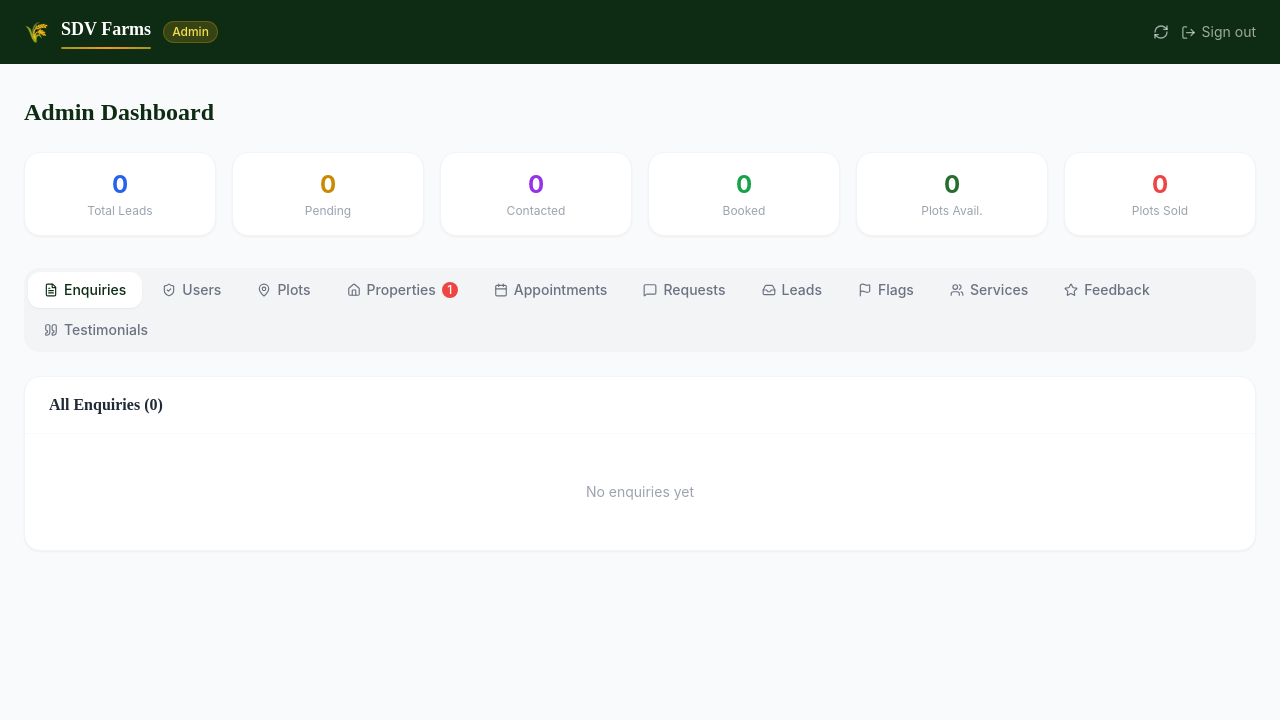
Test case: AdminClient — Seller Properties › shows Approve and Reject only for pending listings
Step 1. Click the button "Properties 1" → (402,290), box [330, 272, 474, 308]
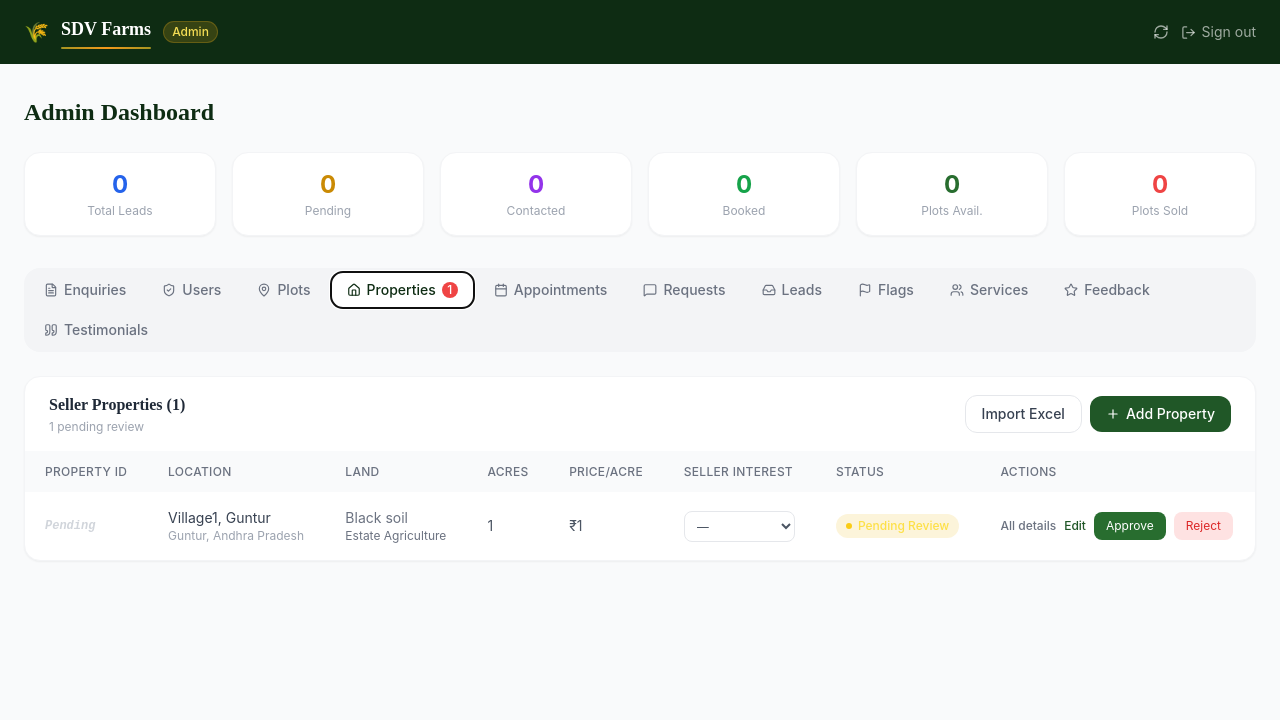
Expected: the button "Approve" is shown, [1094, 512, 1166, 540]
Expected: the button "Reject" is shown, [1174, 512, 1233, 540]
